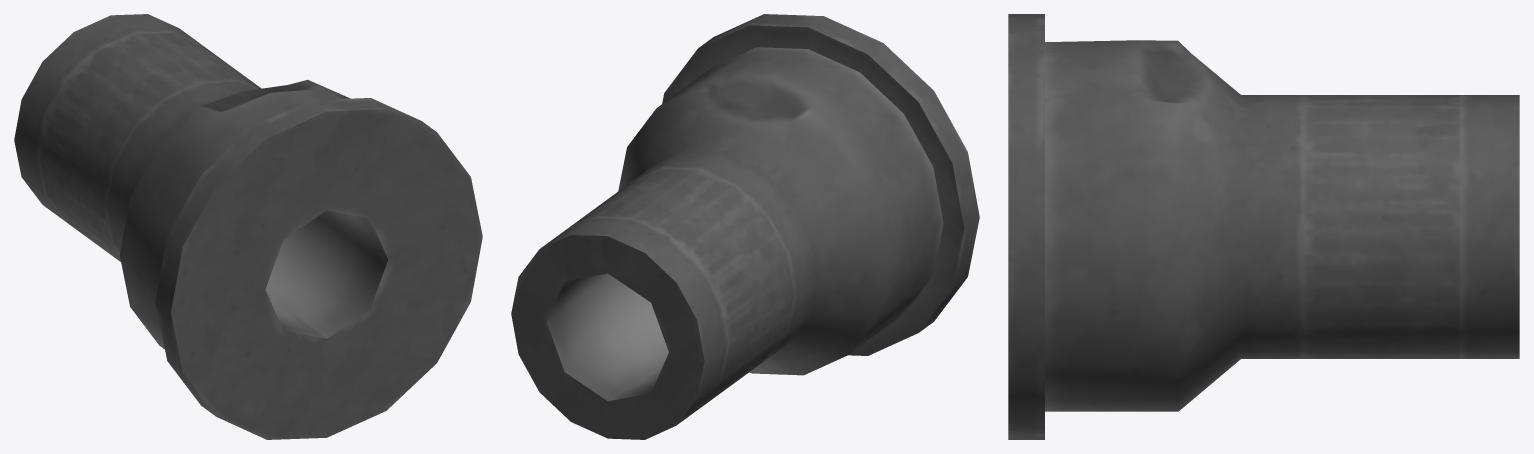
File: IG_Acc_Muzzle_SNP_REC_1.fbx
3 renders of one model, left to right at view 1: azimuth 30°, elevation 25°; view 2: azimuth 150°, elevation 25°; view 3: azimuth 270°, elevation 25°, orthographic. The views are drawn at different scales.
Parts seen in each view (by area): view 1: Muzzle_SNP_REC_1; view 2: Muzzle_SNP_REC_1; view 3: Muzzle_SNP_REC_1.
Boxes of the visible parts, x1,y1,x2,y2 form: Muzzle_SNP_REC_1: (14, 14, 482, 439); Muzzle_SNP_REC_1: (511, 14, 979, 439); Muzzle_SNP_REC_1: (1008, 14, 1519, 439).
Size of the model in its own units: 0.0935 by 0.0935 by 0.1122.
